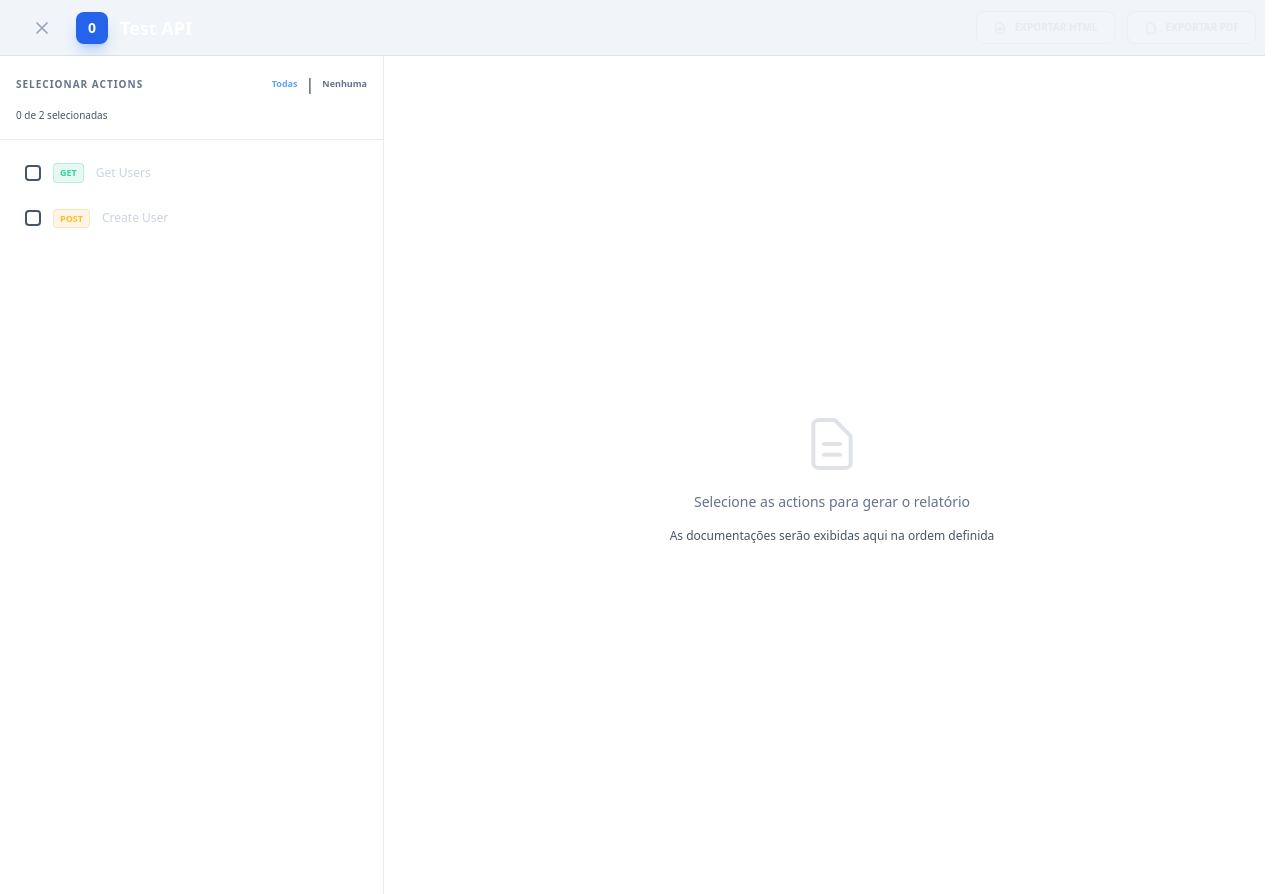
Test: ReportGeneratorModal › should select all when "Todas" is clicked
The width and height of the screenshot is (1280, 894).
Click the button "Todas". click: coordinates (285, 84)
box: [272,72,298,96]
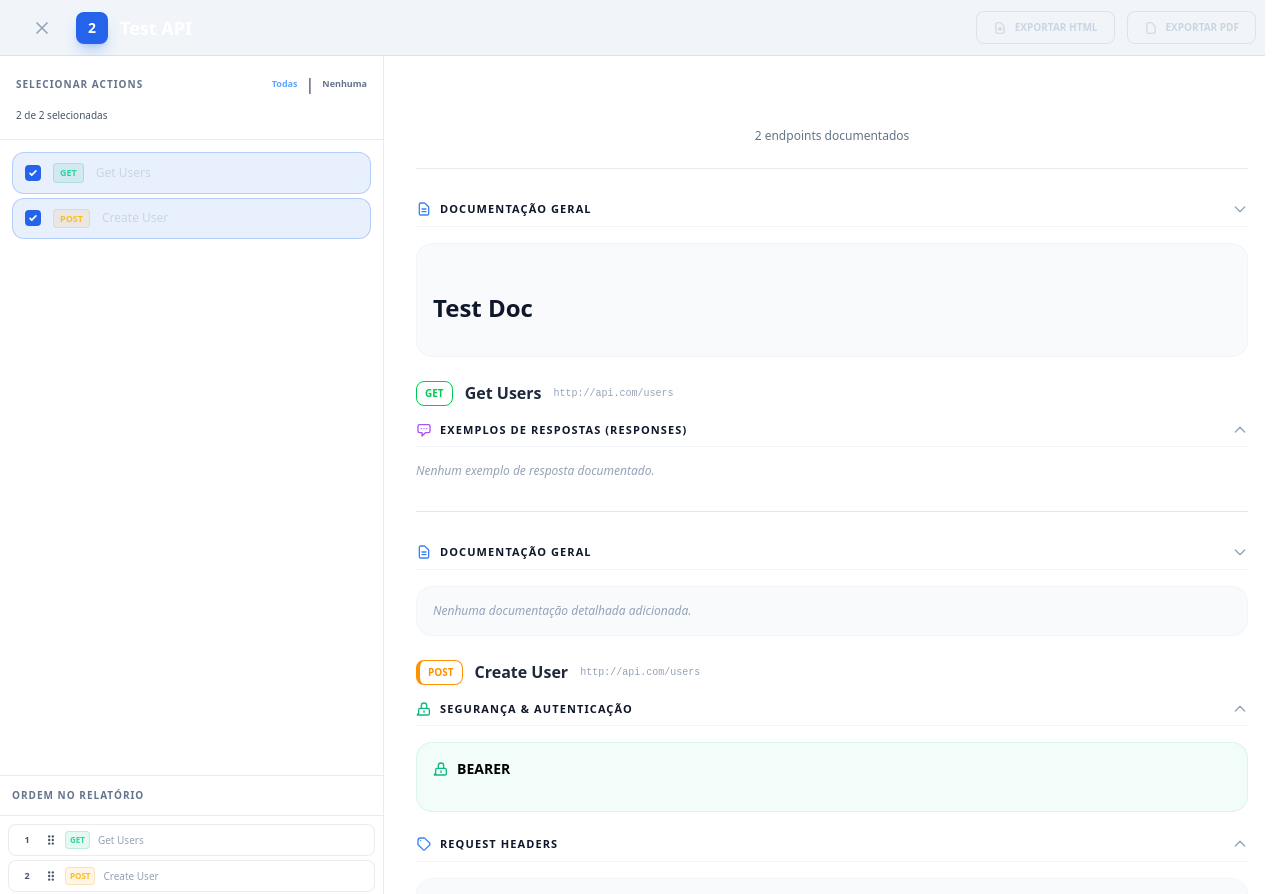
Expected: the text "2 de 2 selecionadas" is shown, [16,108,108,122]
